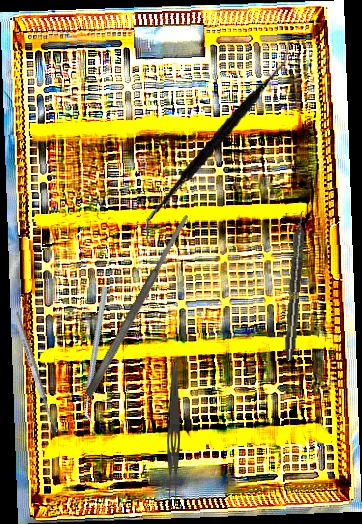Chopper: (36, 284, 158, 425)
Dressing Forceps: (166, 366, 180, 502)
Handpiece: (282, 210, 309, 362)
Spatula Surgical: (143, 25, 293, 258), (82, 213, 193, 398)
Surgical Spoon: (11, 310, 59, 435)
